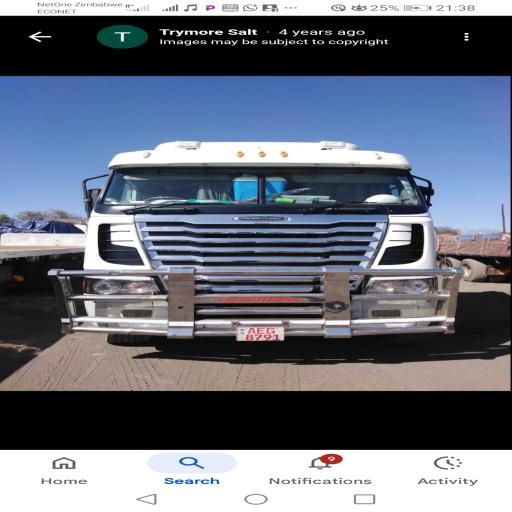number-plates: (232, 322, 292, 343)
